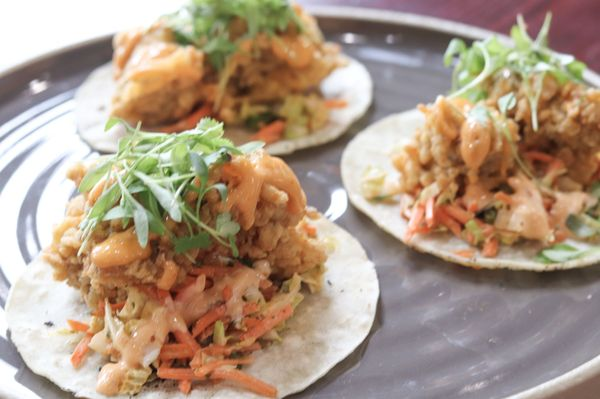soup: (5, 116, 379, 395)
